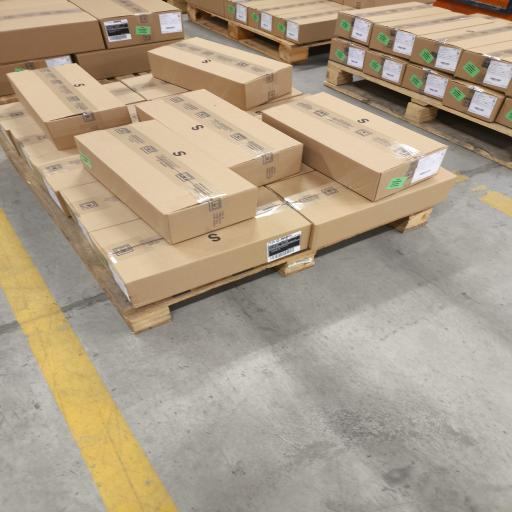pallet: (0, 134, 316, 333), (324, 61, 511, 168), (188, 4, 330, 63), (0, 95, 17, 104)
